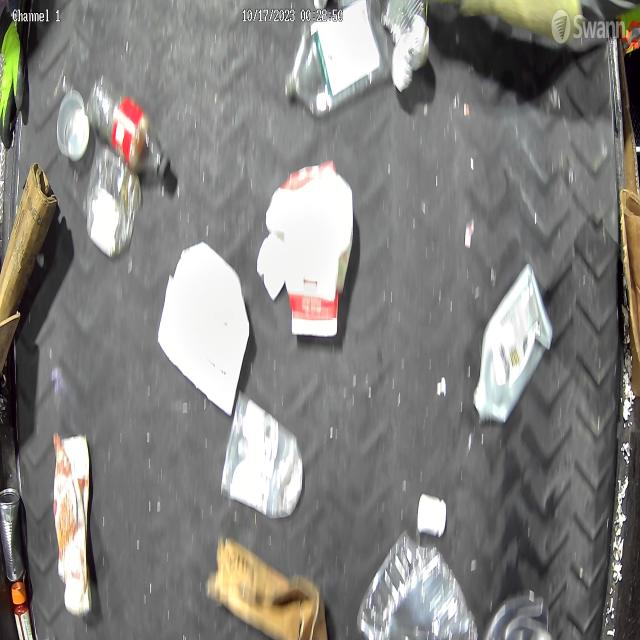can: (0, 487, 25, 582), (381, 0, 426, 43)
milk_jug: (265, 160, 354, 336)
non_white_jug: (472, 264, 552, 425), (52, 431, 92, 617)
plastic_bottle: (285, 0, 389, 119), (88, 79, 170, 181)
